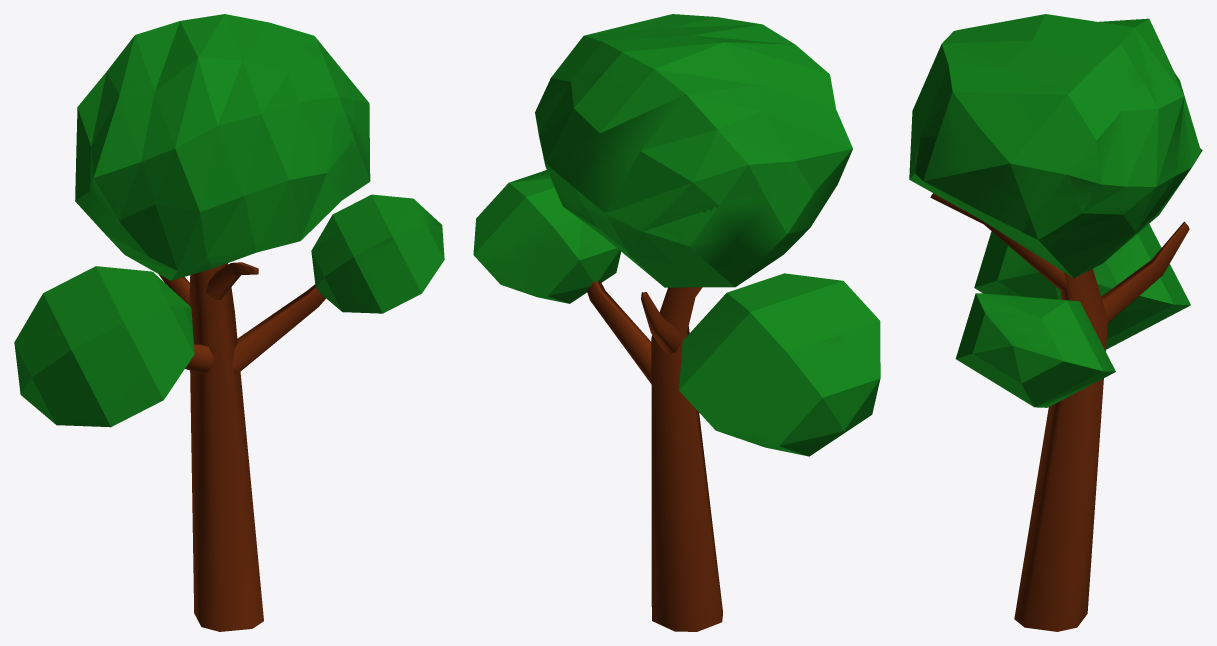
The model's file is tree.gltf.
3 renders of one model, left to right at view 1: azimuth 30°, elevation 25°; view 2: azimuth 150°, elevation 25°; view 3: azimuth 270°, elevation 25°, orthographic. The views are drawn at different scales.
Visible parts, largest first — view 1: tree_1; view 2: tree_1; view 3: tree_1.
Part boxes in pixels (x1,y1,x2,y2): tree_1: (14,14,444,631); tree_1: (473,14,880,631); tree_1: (909,14,1202,631).
Size of the model in its own units: 2.24 by 3.1 by 1.4.
Materials: 1 (1 with a texture image).
